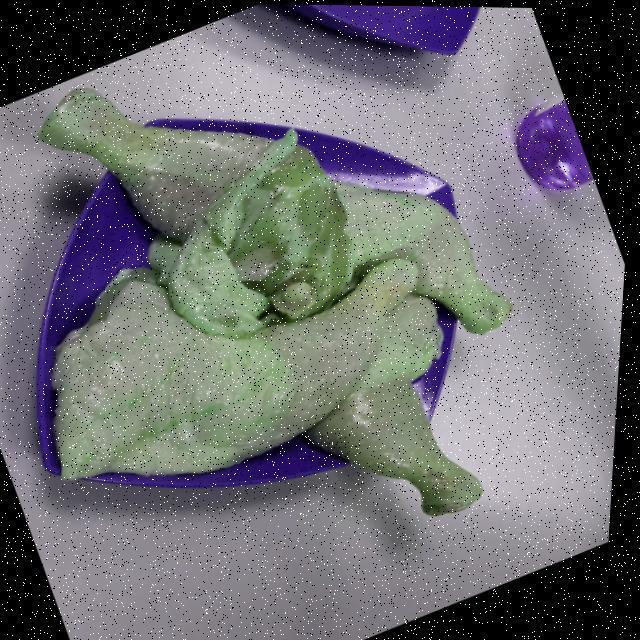quater: (38, 274, 414, 470), (41, 73, 342, 297), (243, 165, 504, 342), (294, 302, 490, 516)
